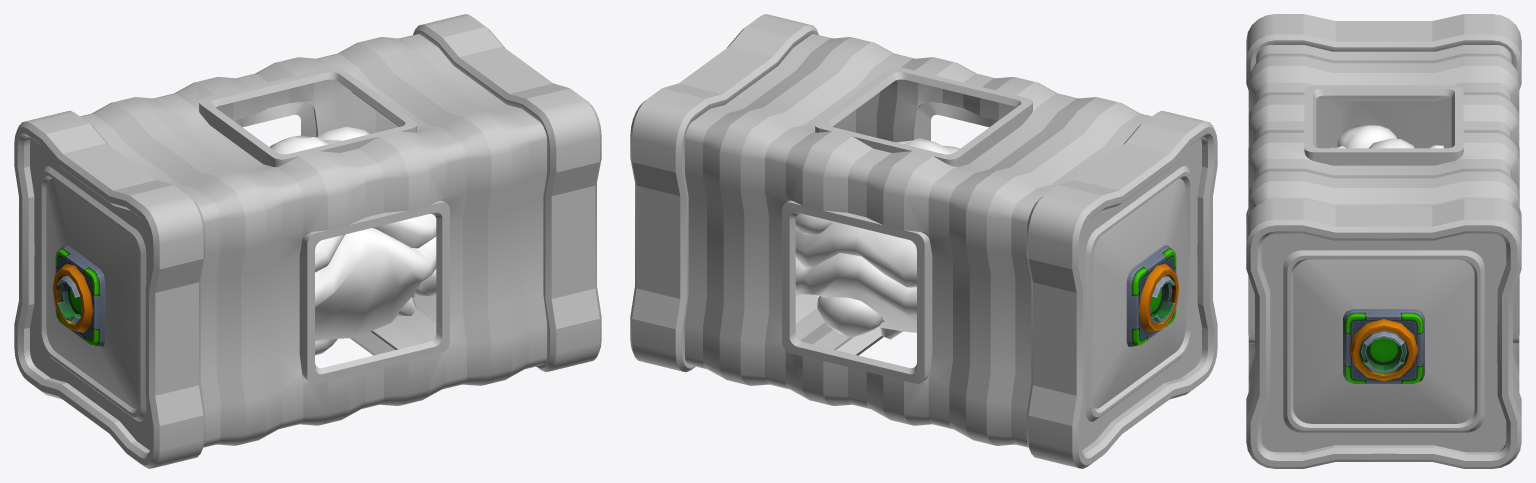
The model's file is fant_glueclam_1.obj.
3 renders of one model, left to right at view 1: azimuth 30°, elevation 25°; view 2: azimuth 150°, elevation 25°; view 3: azimuth 270°, elevation 25°, orthographic. The views are drawn at different scales.
Visible parts, largest first — view 1: fant_glueclam_1; view 2: fant_glueclam_1; view 3: fant_glueclam_1.
Boxes of the visible parts, x1,y1,x2,y2 form: fant_glueclam_1: [14, 14, 601, 468]; fant_glueclam_1: [630, 14, 1217, 468]; fant_glueclam_1: [1246, 14, 1521, 468].
Size of the model in its own units: 9.71 by 5 by 5.
